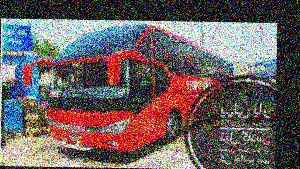bus: (23, 21, 235, 155)
